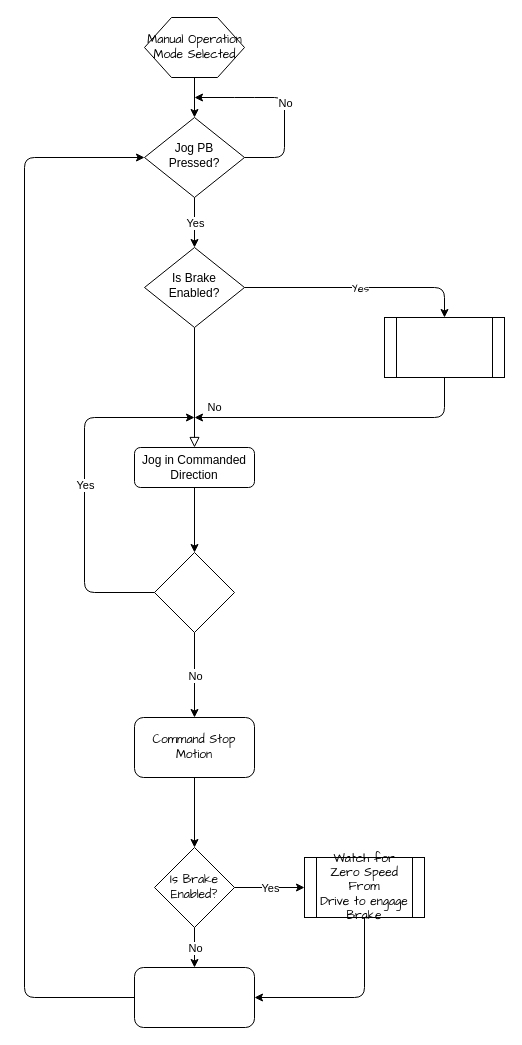
Some shapes in this 522 by 1045 pixel diagram are drawn without their labels. Each missing label, with the centre of its shape:
Is Jog PB Still Pressed: point (194, 592)
Jog Complete: point (194, 997)
Release Brake + Time Delay: point (444, 347)
